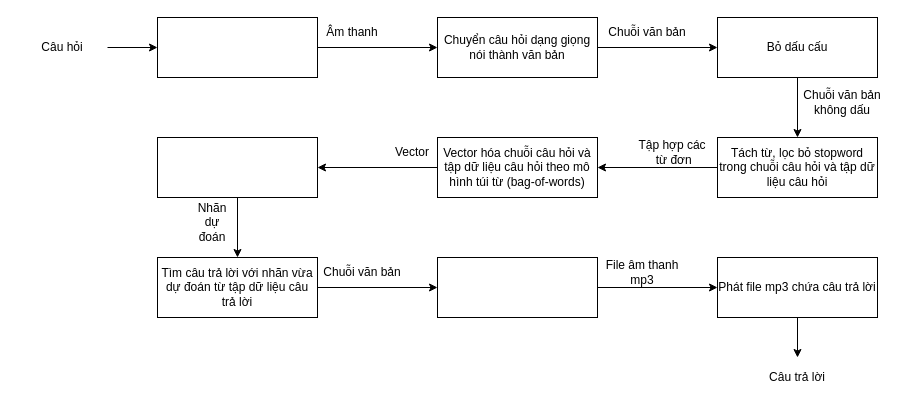
Some shapes in this 904 by 415 pixel diagram are drawn without their labels. The shapes that lost their labels are listed below. From the top down, each one's box as (x1, y1, x2, y2) in pixels, then its label:
(156, 16, 318, 78): Thu âm qua microphone
(156, 136, 318, 198): Dự đoán nhãn câu hỏi với K láng giềng
(436, 256, 598, 318): Chuyển câu trả lời thành giọng nói
